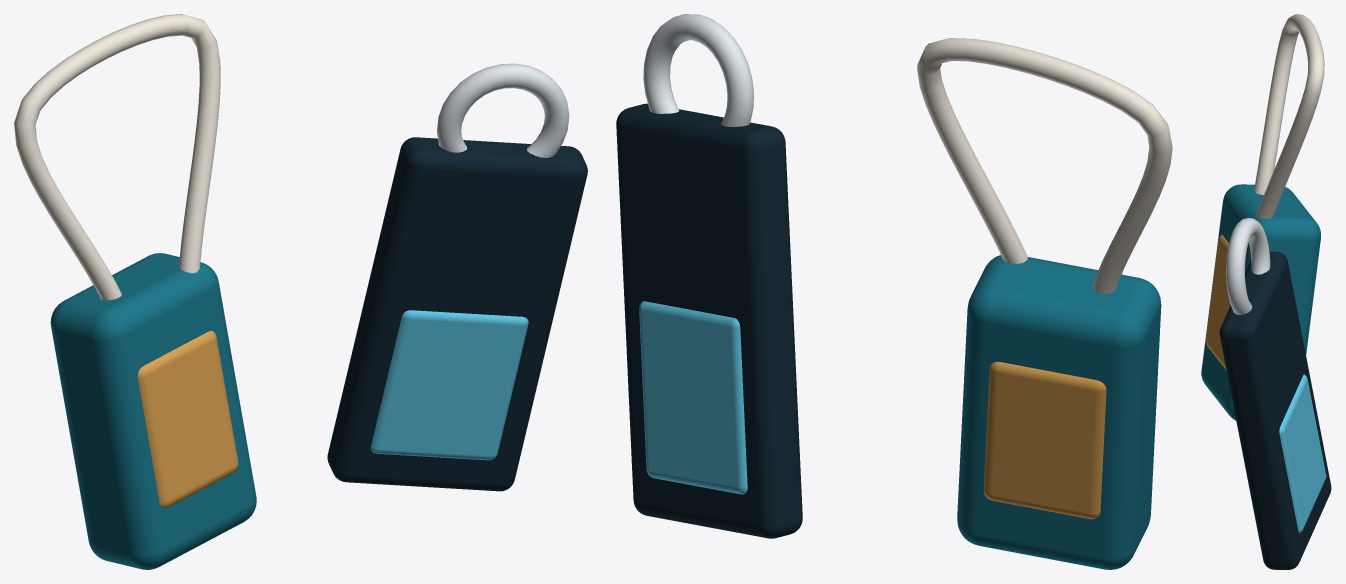
Rendered from lock-strings-and-pullers.glb.
The picture shows the model from 3 angles, left to right: view 1: azimuth 30°, elevation 25°; view 2: azimuth 150°, elevation 25°; view 3: azimuth 270°, elevation 25°; orthographic projection. The views are drawn at different scales.
Visible parts, largest first — view 1: lock-strings-and-pullers; view 2: lock-strings-and-pullers; view 3: lock-strings-and-pullers.
Part boxes in pixels (bbox=[...]): lock-strings-and-pullers: bbox=[14, 14, 587, 569]; lock-strings-and-pullers: bbox=[616, 14, 1172, 569]; lock-strings-and-pullers: bbox=[1201, 14, 1331, 569].
Size of the model in its own units: 2 by 1.89 by 0.5481.
